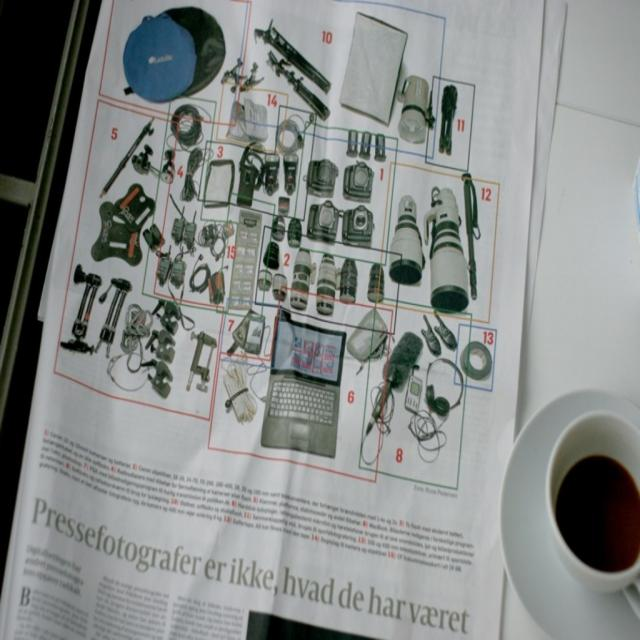Coffee: (556, 459, 639, 571)
Tea: (553, 455, 639, 573)
